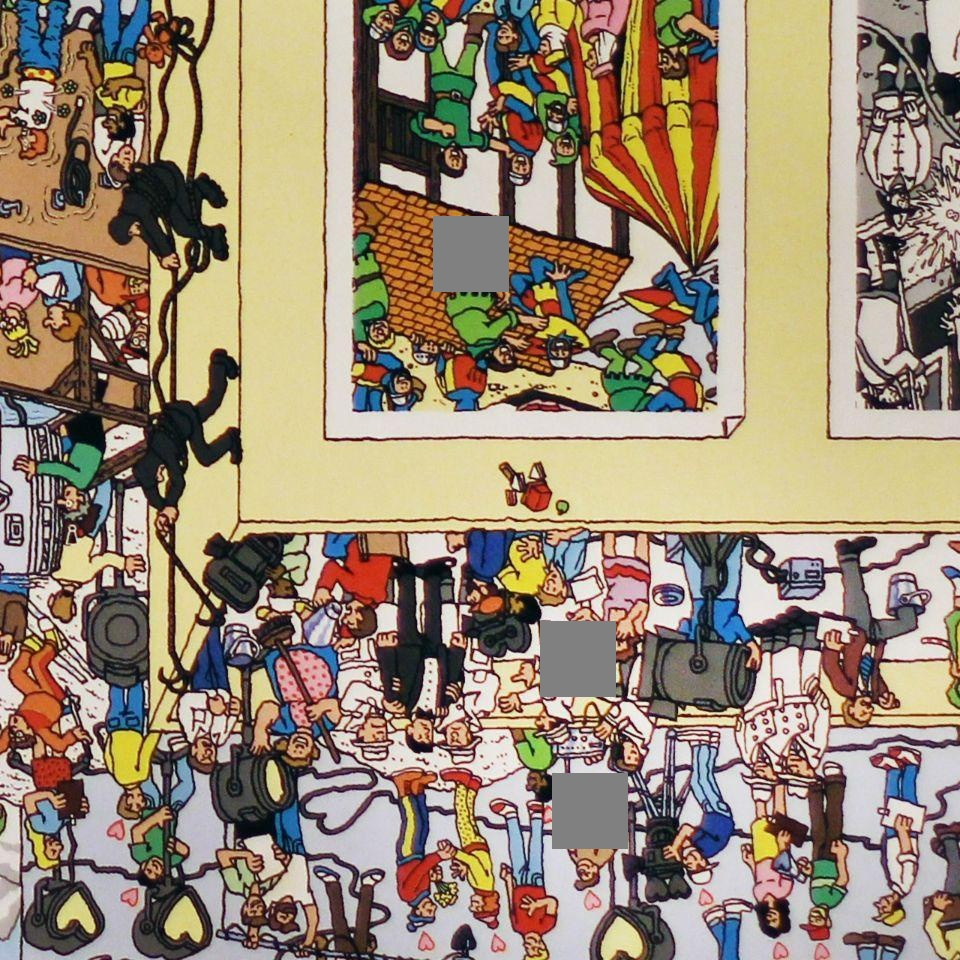waldo: (118, 320, 153, 363)
